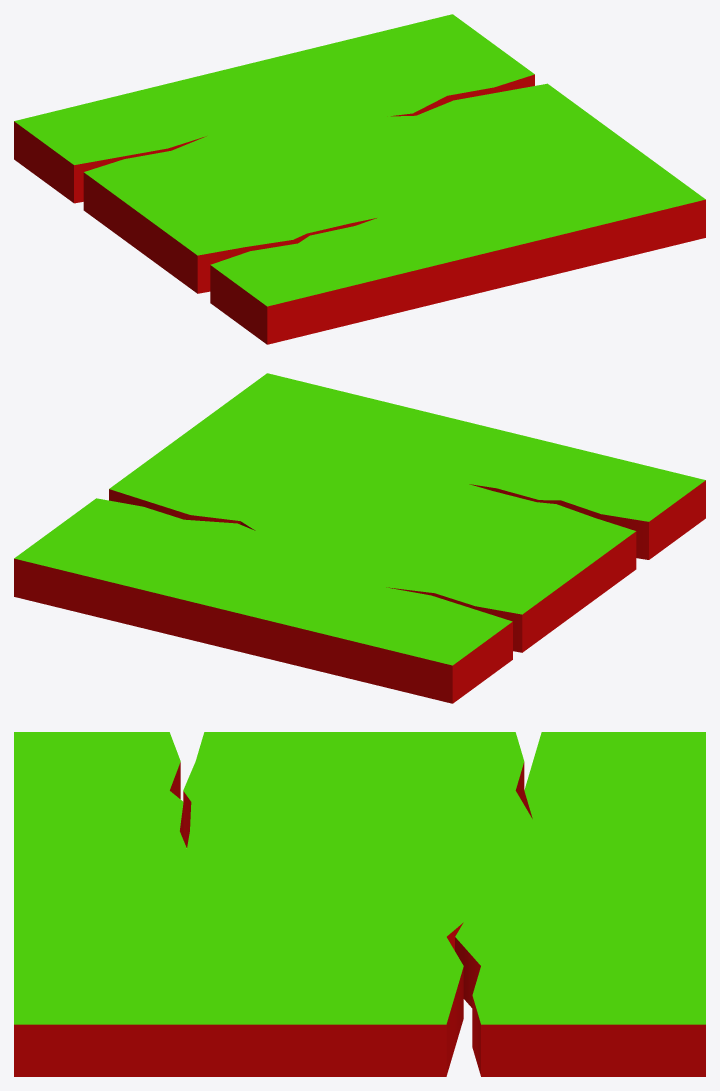
Rendered from GroundCracked - 6x6.fbx.
3 views of the same model, one above another, from view 1: azimuth 30°, elevation 25°; view 2: azimuth 150°, elevation 25°; view 3: azimuth 270°, elevation 25° (orthographic). The views are drawn at different scales.
Visible parts, largest first — view 1: pPlane1; view 2: pPlane1; view 3: pPlane1.
Part boxes in pixels (left/top/right/bottom): pPlane1: left=14, top=14, right=705, bottom=344; pPlane1: left=14, top=373, right=705, bottom=703; pPlane1: left=14, top=732, right=705, bottom=1076.
Bounding box in the file's own units: 6 × 0.5 × 6.
